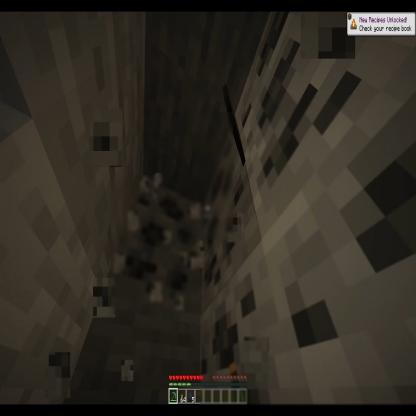coal ore: (257, 95, 416, 416), (233, 0, 416, 242), (200, 240, 288, 416), (192, 112, 262, 316), (112, 175, 202, 314)
